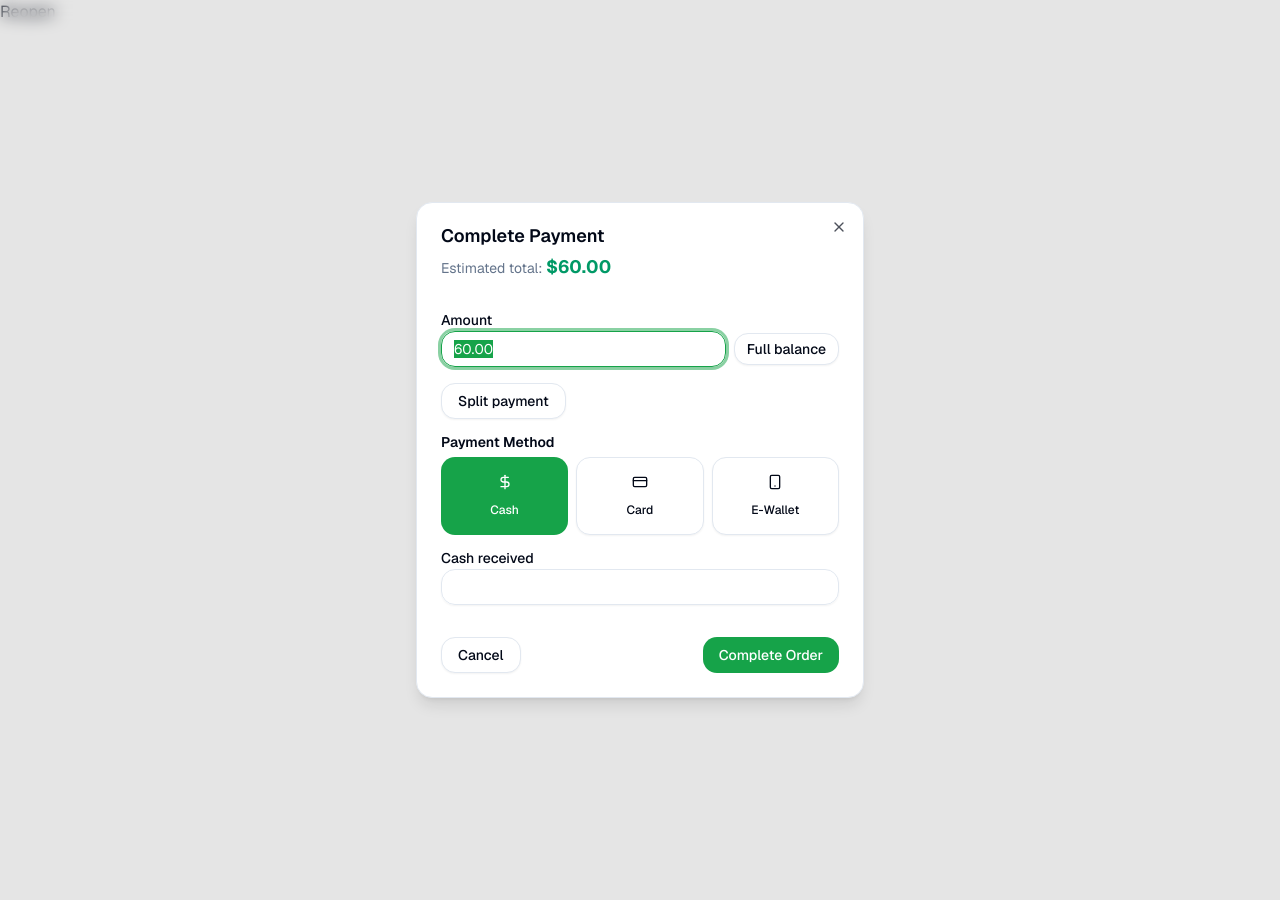
it: PaymentDialog — editable amount (partial payment) › "Full balance" resets a narrowed amount back to the full amount due
This screenshot has width=1280, height=900.
Replace the text in the field labelled "Amount" with "20" at (583, 349), box [441, 331, 726, 367]
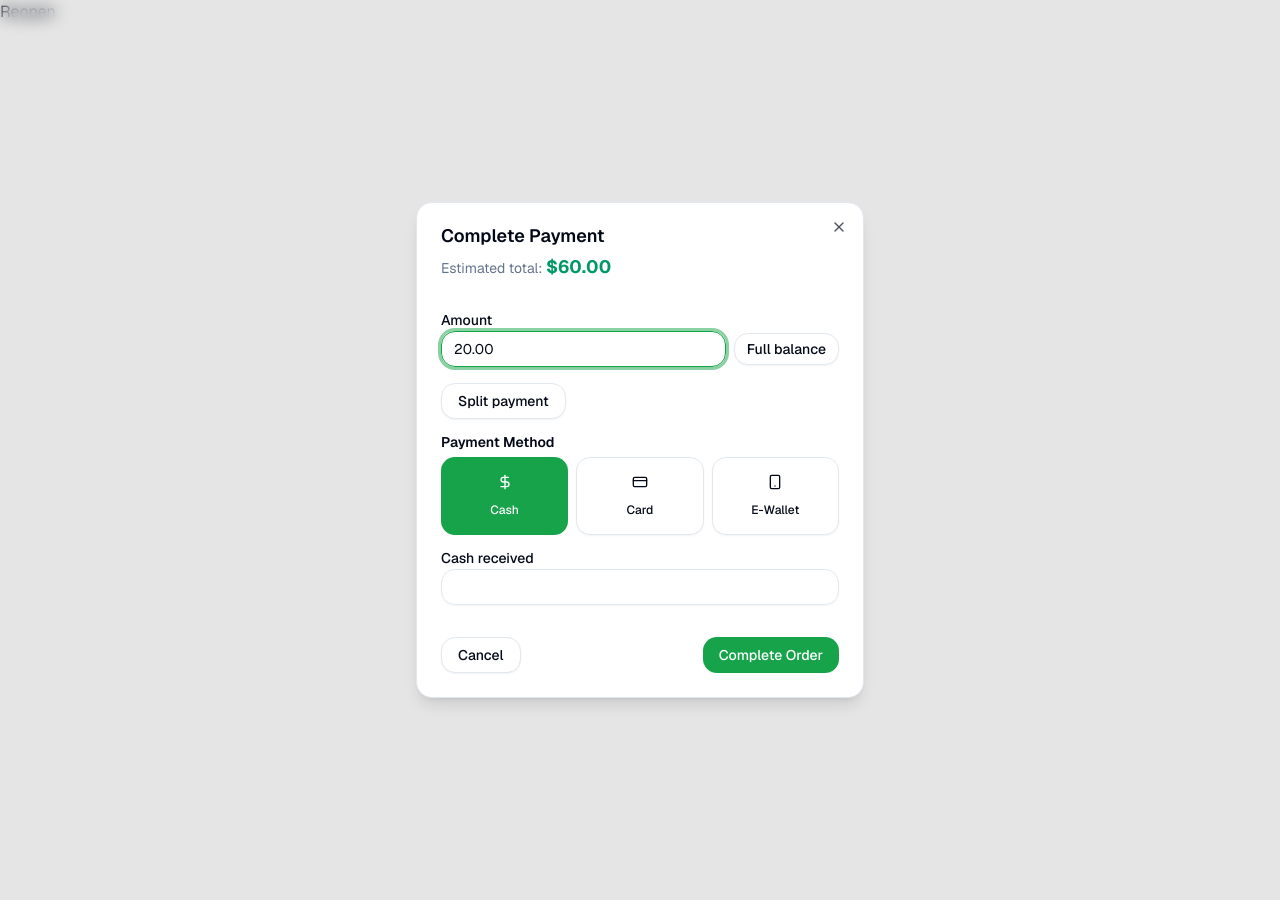
Click the button "Full balance" at (786, 349), box [734, 333, 839, 365]
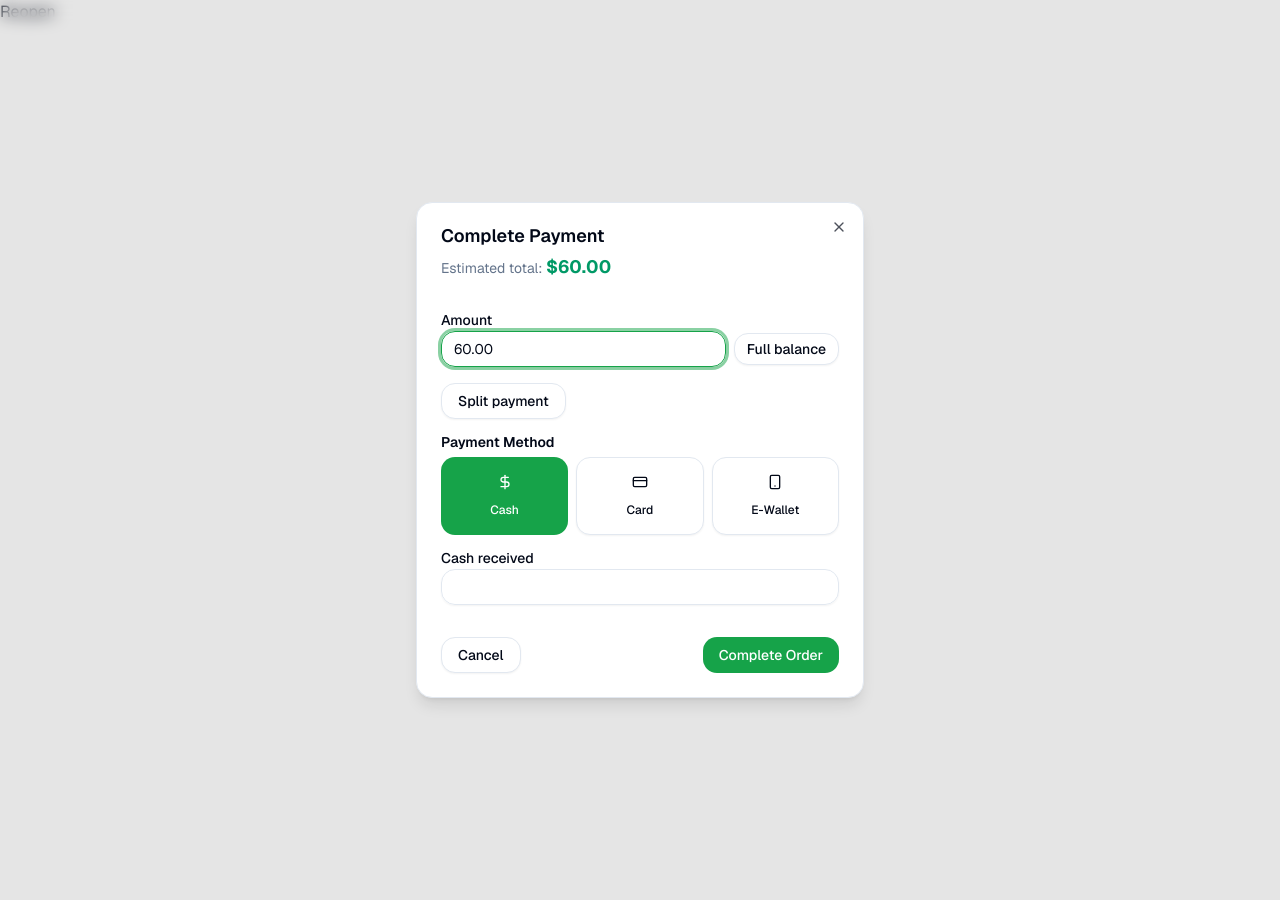
expect the field labelled "Amount" holds "60.00": met, box [441, 331, 726, 367]
